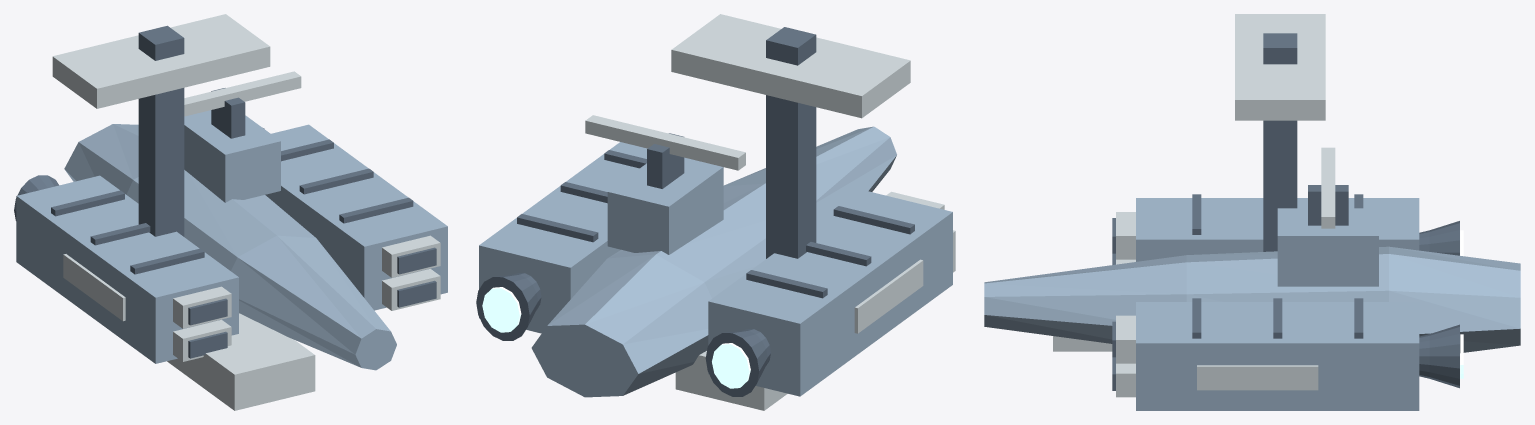
3 views of the same model, side by side, from view 1: azimuth 30°, elevation 25°; view 2: azimuth 150°, elevation 25°; view 3: azimuth 270°, elevation 25° (orthographic). The views are drawn at different scales.
Size of the model in its own units: 6.34 by 5.65 by 9.47.
